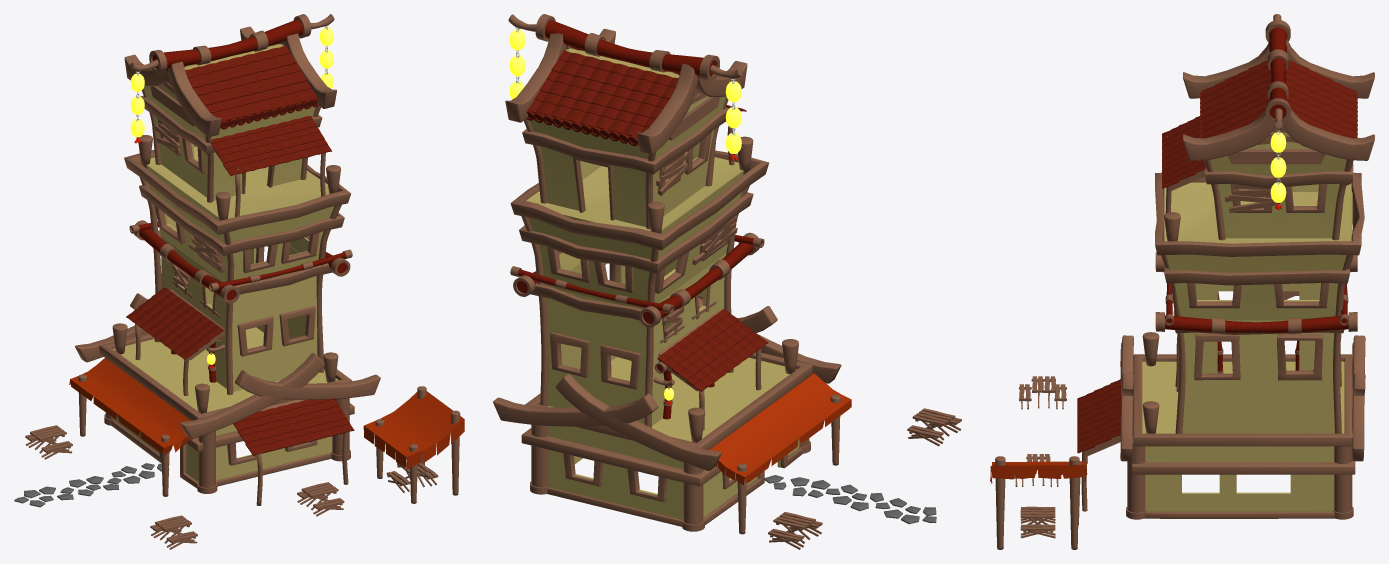
3 renders of one model, left to right at view 1: azimuth 30°, elevation 25°; view 2: azimuth 150°, elevation 25°; view 3: azimuth 270°, elevation 25°, orthographic. The views are drawn at different scales.
Visible parts, largest first — view 1: Cube.248; view 2: Cube.248; view 3: Cube.248.
Part boxes in pixels (left/top/right/bottom): Cube.248: left=14, top=14, right=464, bottom=549; Cube.248: left=493, top=14, right=961, bottom=549; Cube.248: left=990, top=14, right=1374, bottom=549.
Bounding box in the file's own units: 277 × 300 × 240.
